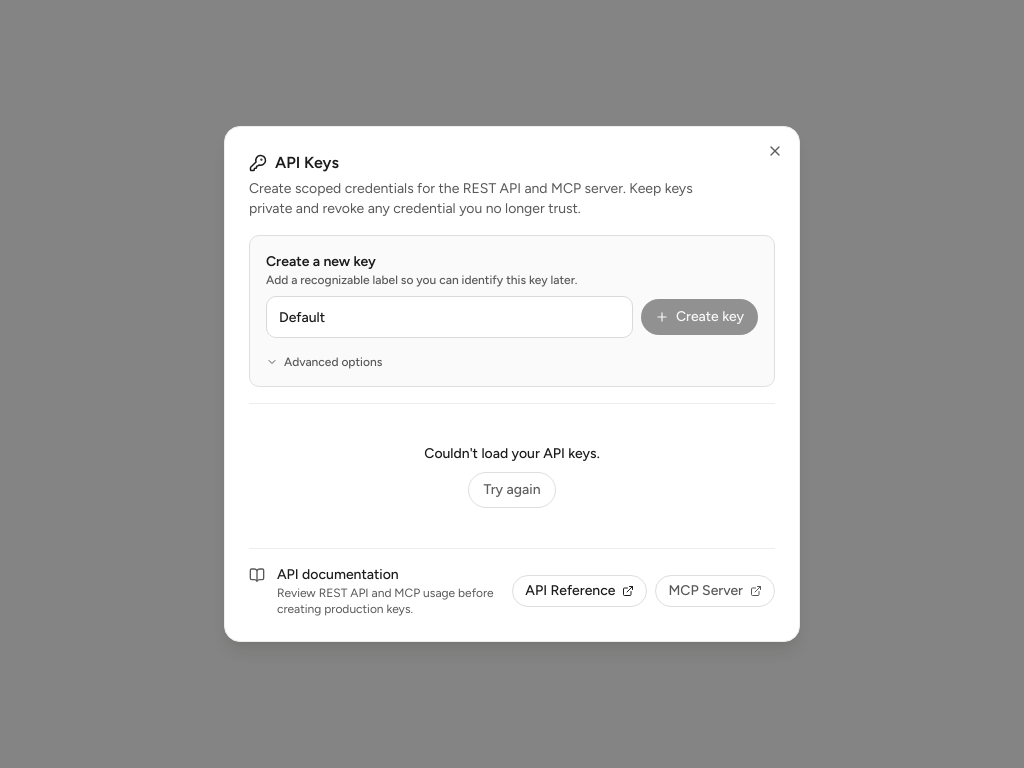
Test: the list › says when the keys can't be loaded, and tries again
Expected: the message shows "Couldn't load your API keys.", [424, 445, 600, 462]
Expected: the button "Create key" is disabled, [641, 299, 758, 335]
Click the button "Try again" at (512, 490), box [468, 472, 556, 508]
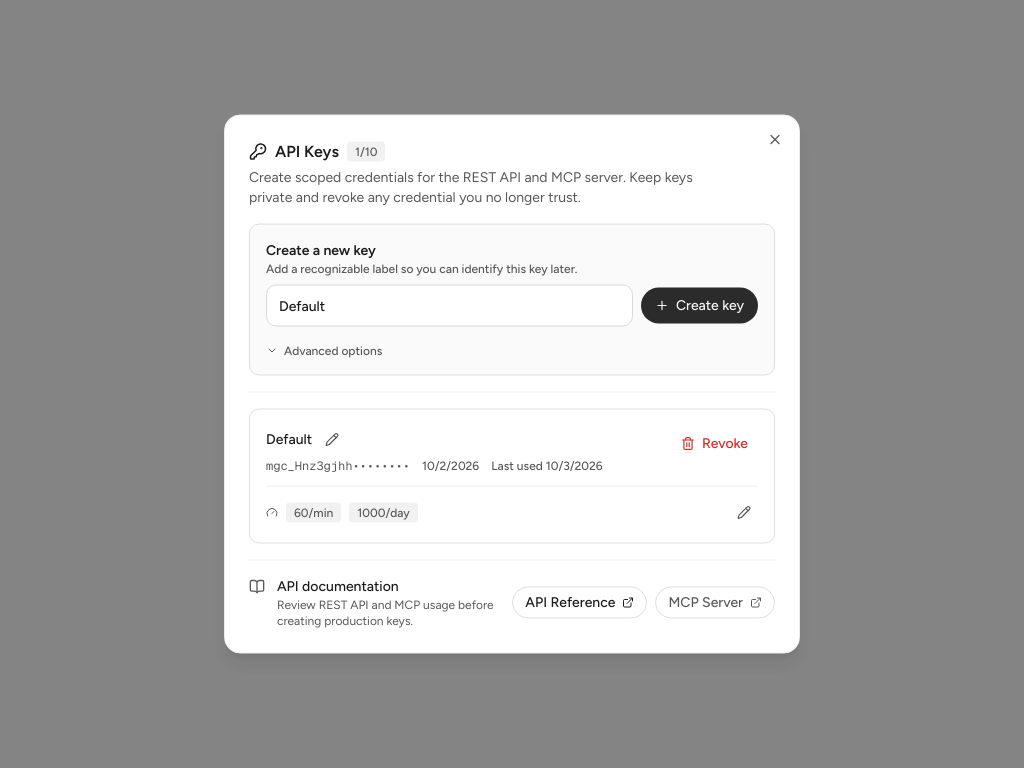
Result: the text "mgc_Hnz3gjhh••••••••" is shown at [266, 458, 410, 474]
